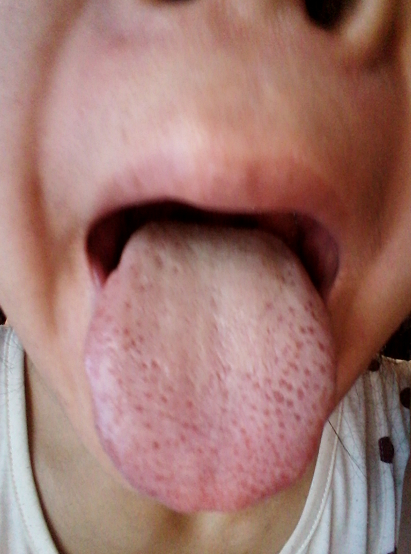hongdianshe: (317, 339, 326, 354), (151, 438, 161, 451), (133, 402, 143, 414), (306, 323, 314, 335)
huangtaishe: (86, 220, 335, 513)
